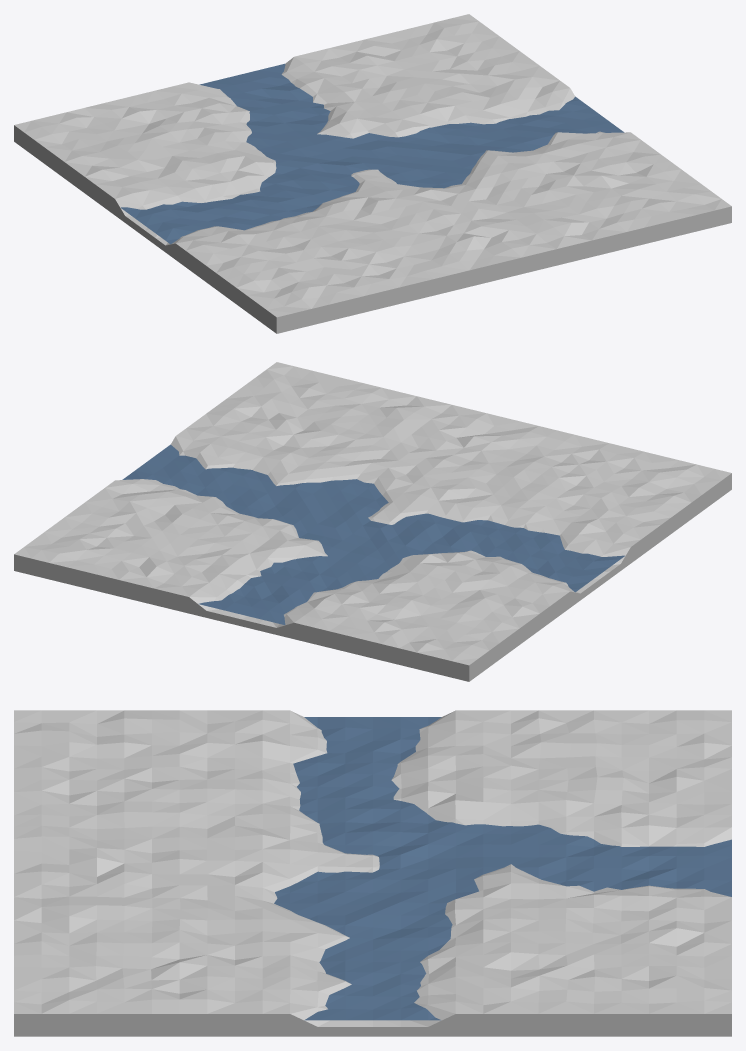
File: WaterThreeTile.fbx
The picture shows the model from 3 angles, top to bottom: view 1: azimuth 30°, elevation 25°; view 2: azimuth 150°, elevation 25°; view 3: azimuth 270°, elevation 25°; orthographic projection. The views are drawn at different scales.
Parts seen in each view (by area): view 1: WaterThreeTile.001; view 2: WaterThreeTile.001; view 3: WaterThreeTile.001.
Boxes of the visible parts, x1,y1,x2,y2 form: WaterThreeTile.001: (14,14,731,333); WaterThreeTile.001: (14,362,731,681); WaterThreeTile.001: (14,710,731,1036).
Size of the model in its own units: 1000 by 42.21 by 1000.
